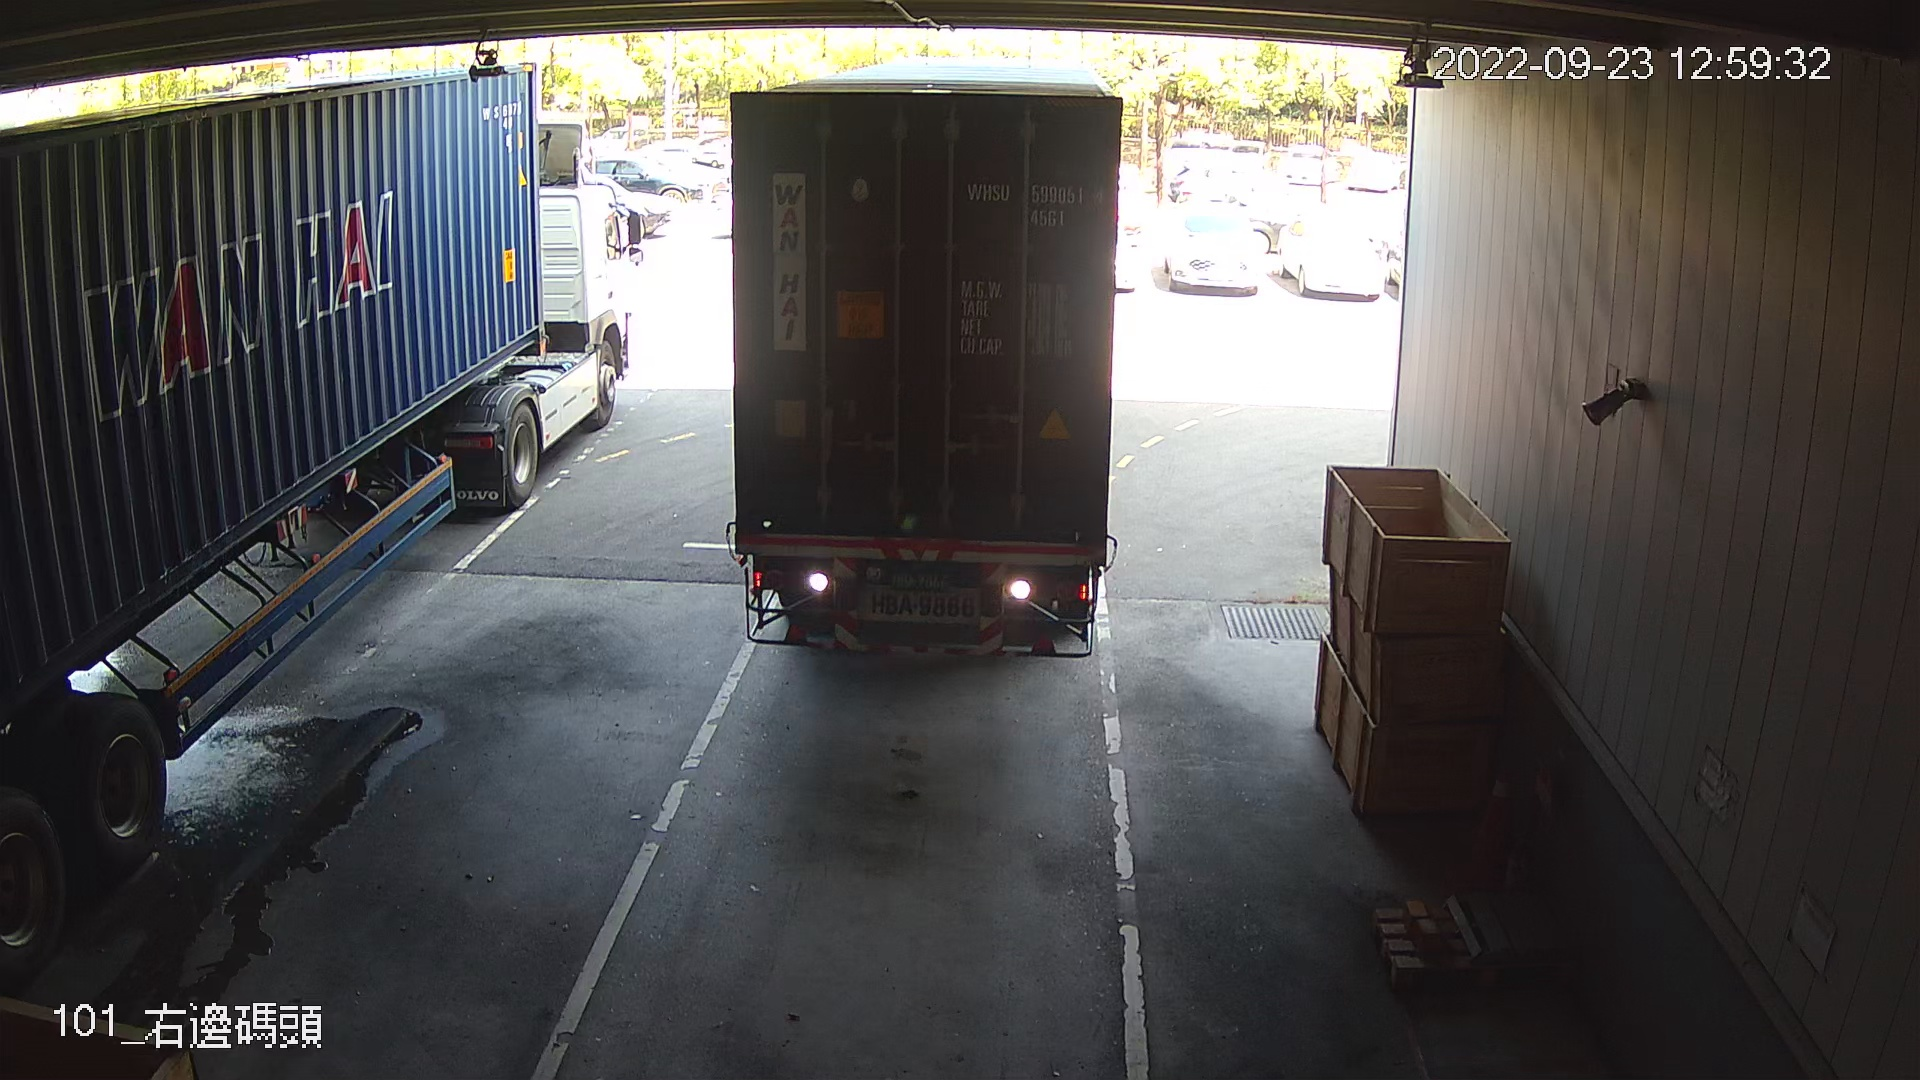container: (956, 167, 1113, 236)
